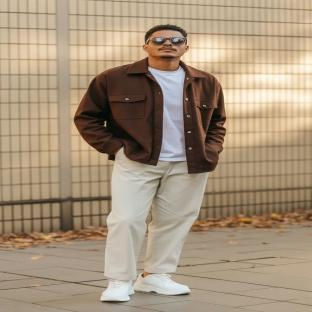Human: (75, 25, 226, 301)
